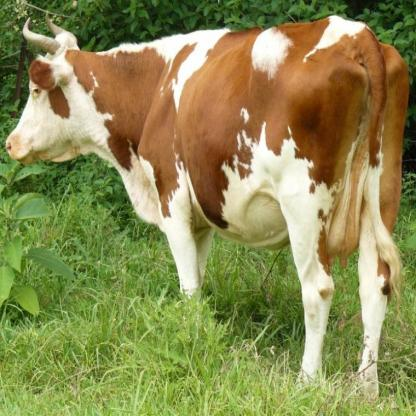cow: (7, 21, 408, 395)
